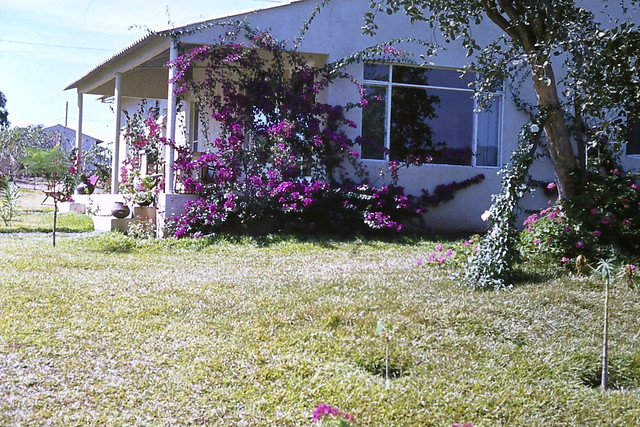medium: (60, 0, 632, 245)
